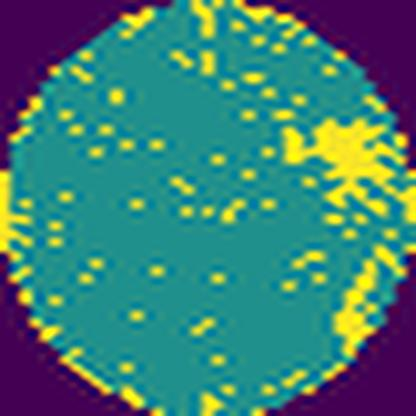Loc: (281, 118, 416, 231), (331, 255, 379, 362)
